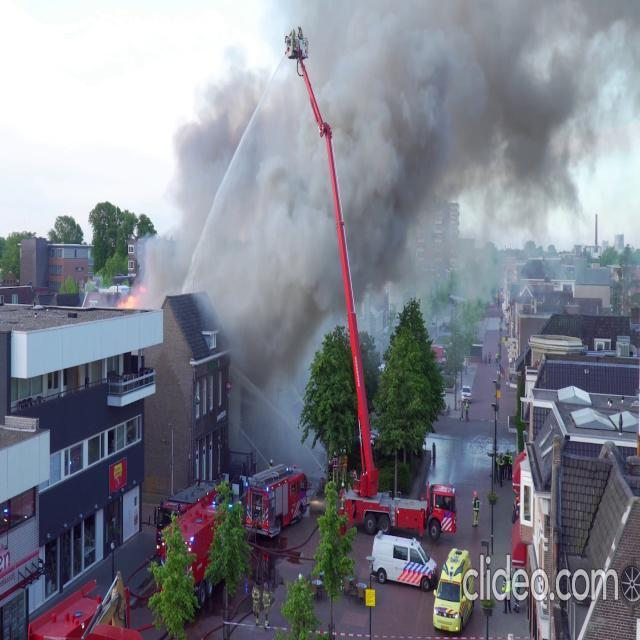Fire: (118, 286, 135, 310)
Smoke: (142, 0, 640, 377)
